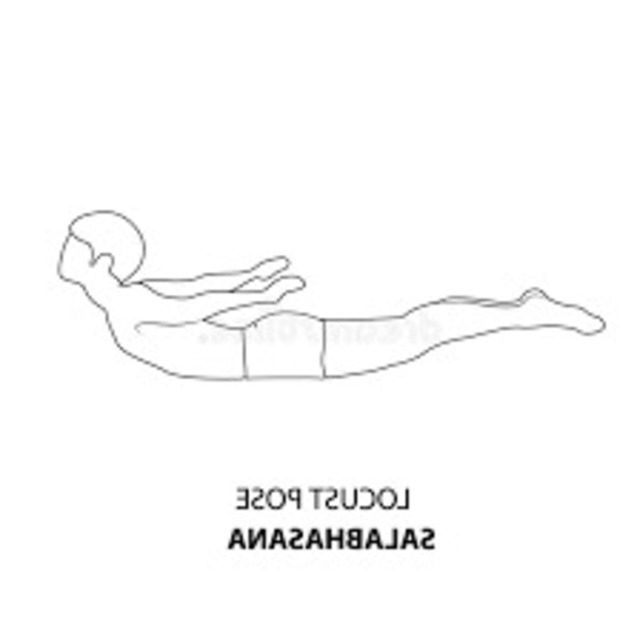Locust_Pose: (57, 210, 609, 387)
